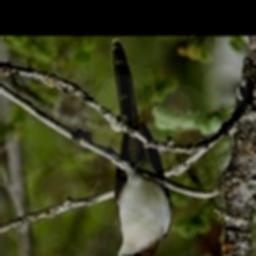Cuckoo: (111, 39, 173, 256)
